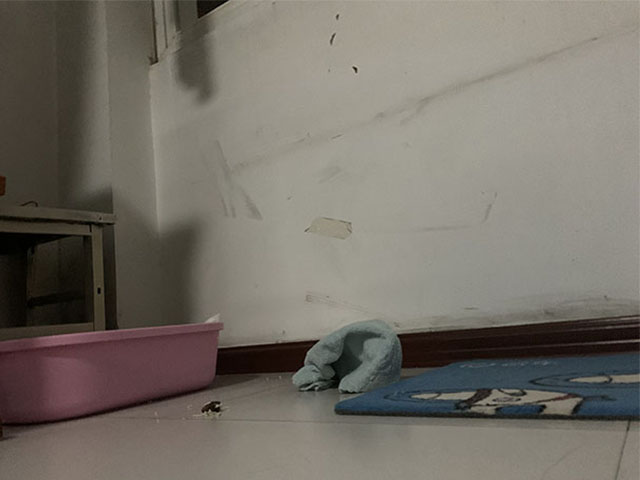carpet: (336, 351, 639, 417)
